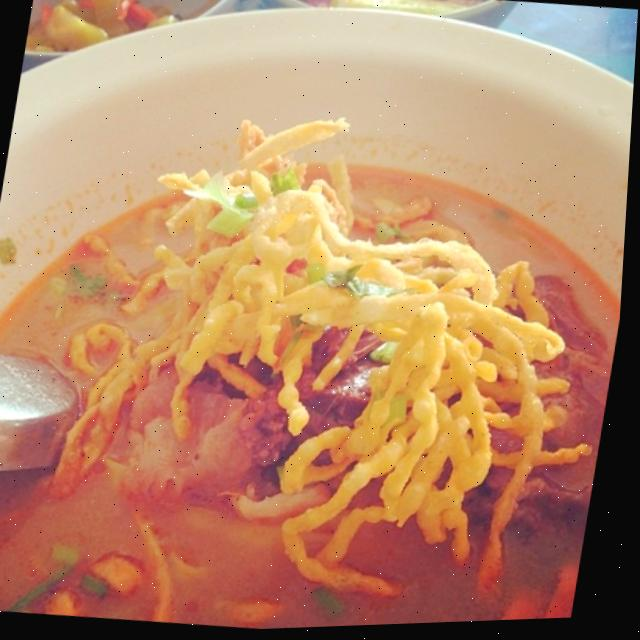面条主食: (0, 2, 639, 640)
